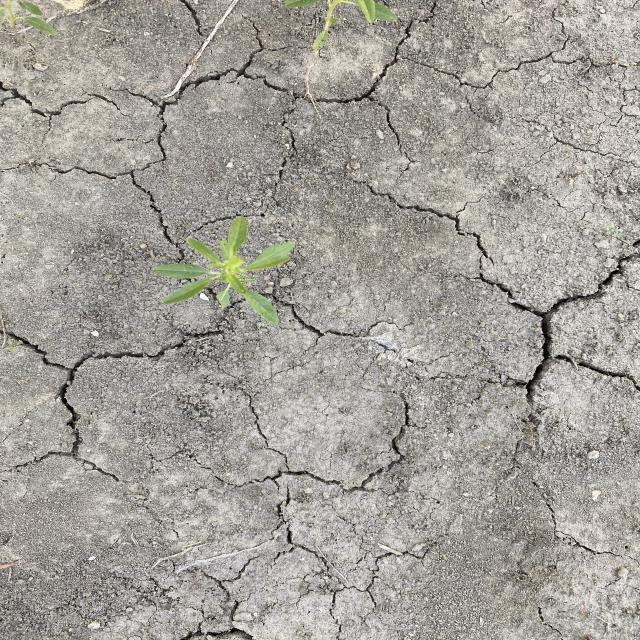Waterhemp: (146, 213, 300, 325)
